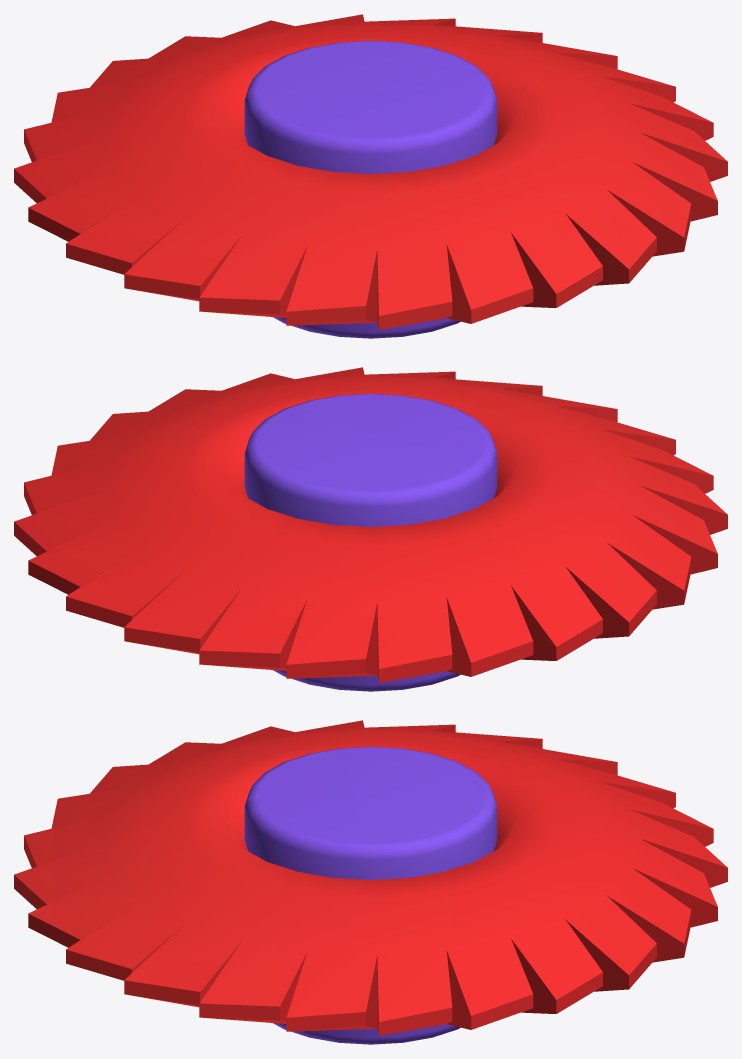
Rendered from Obs_08.fbx.
3 views of the same model, one above another, from view 1: azimuth 30°, elevation 25°; view 2: azimuth 150°, elevation 25°; view 3: azimuth 270°, elevation 25° (orthographic).
Visible parts, largest first — view 1: Obs_08_Main; view 2: Obs_08_Main; view 3: Obs_08_Main.
Part boxes in pixels (left/top/right/bottom): Obs_08_Main: left=14, top=14, right=727, bottom=338; Obs_08_Main: left=14, top=367, right=727, bottom=691; Obs_08_Main: left=14, top=720, right=727, bottom=1044.
Bounding box in the file's own units: 1.85 × 0.5741 × 1.85.
